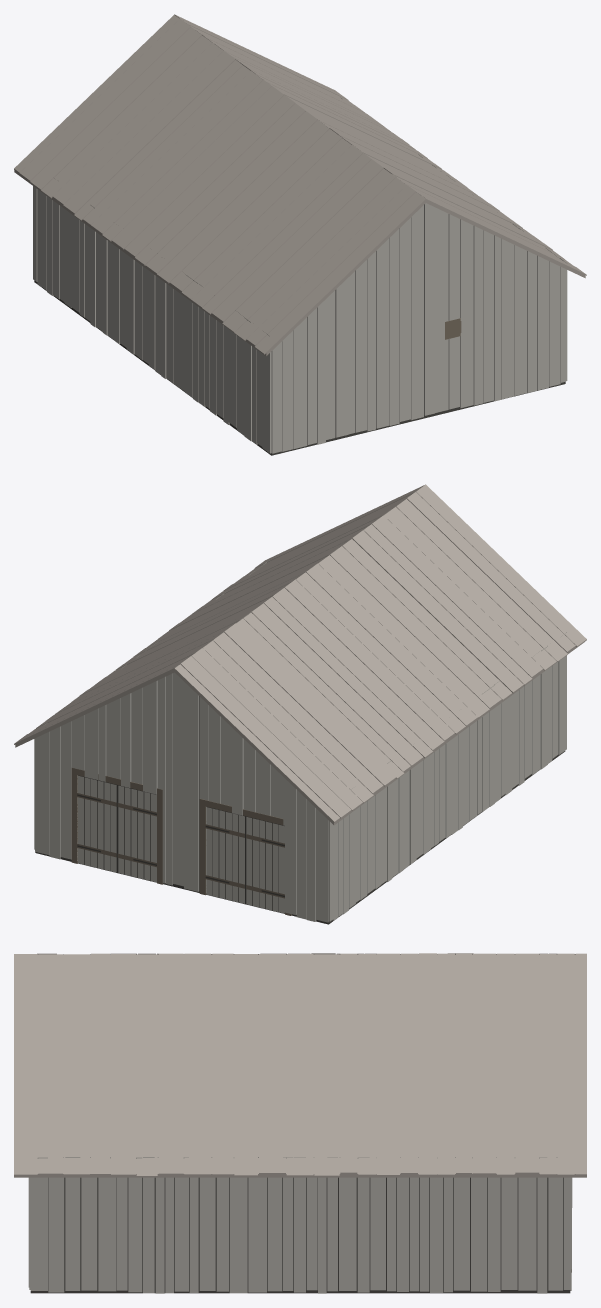
File: recon_1835_south_f1_038__inferred_1835.glb
The picture shows the model from 3 angles, top to bottom: view 1: azimuth 30°, elevation 25°; view 2: azimuth 150°, elevation 25°; view 3: azimuth 270°, elevation 25°; orthographic projection. The views are drawn at different scales.
Visible parts, largest first — view 1: recon_1835_south_f1_038__inferred_1835; view 2: recon_1835_south_f1_038__inferred_1835; view 3: recon_1835_south_f1_038__inferred_1835.
Boxes of the visible parts, left/top/right/bottom form: recon_1835_south_f1_038__inferred_1835: left=14, top=14, right=586, bottom=455; recon_1835_south_f1_038__inferred_1835: left=14, top=484, right=586, bottom=924; recon_1835_south_f1_038__inferred_1835: left=14, top=953, right=586, bottom=1293.
Size of the model in its own units: 8.93 by 5.98 by 12.04.
